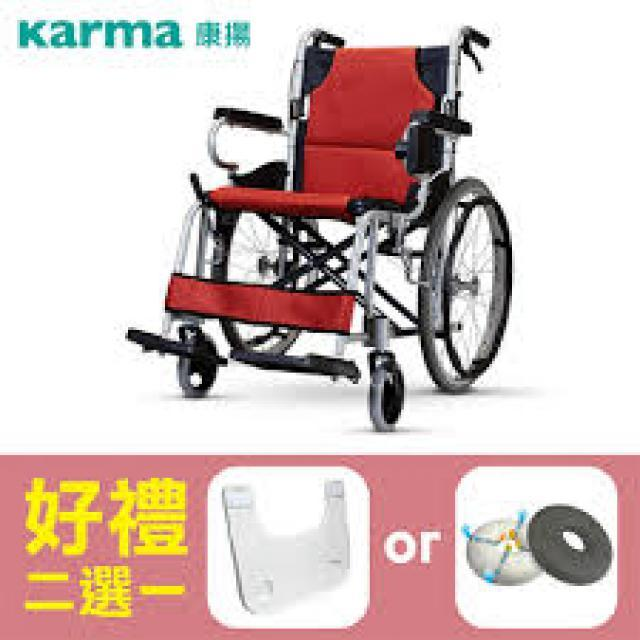wheelchair: (114, 20, 549, 427)
